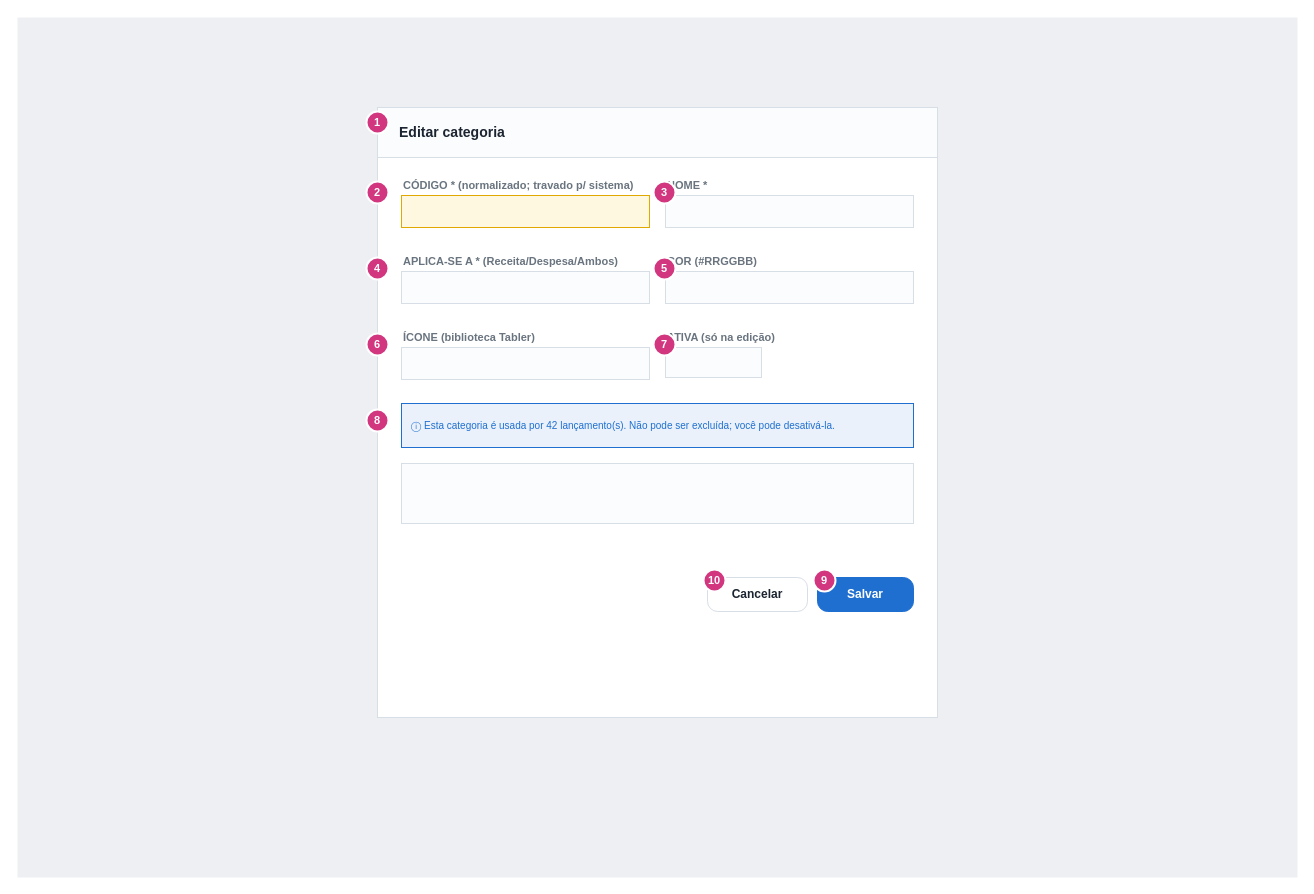
Image size: 1314x894. Some labels were removed from this diagram. The centre of each missing label's shape, as x and y in pixels:
"Pré-visualização: ● Alimentação (cor + ícone ao lado do Nome, RT09)" belongs at [657,493].
"Sim | Não" belongs at [713,362].
